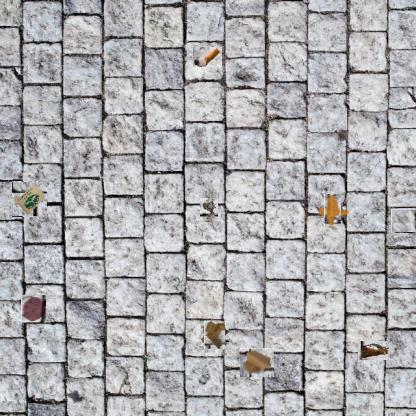dirty: (11, 182, 47, 216), (240, 348, 274, 377), (357, 340, 389, 360), (391, 208, 416, 233), (203, 323, 227, 348), (194, 47, 224, 67), (200, 198, 218, 222)
liquid: (21, 295, 46, 323), (321, 198, 345, 223)
